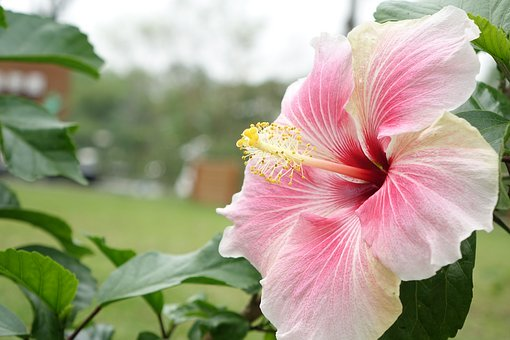Hibiscus: (205, 13, 492, 340)
